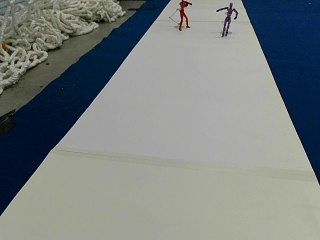pedestrian: (216, 1, 238, 35), (177, 0, 191, 29)
